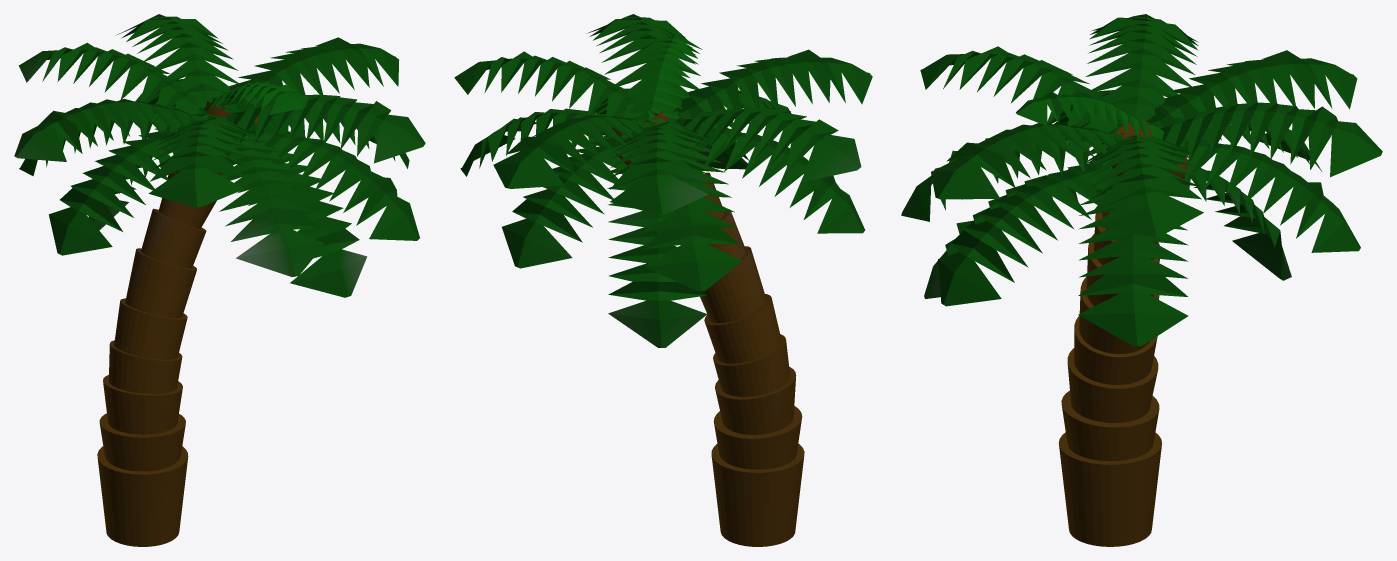
The model's file is Coconut.fbx.
The picture shows the model from 3 angles, left to right: view 1: azimuth 30°, elevation 25°; view 2: azimuth 150°, elevation 25°; view 3: azimuth 270°, elevation 25°; orthographic projection. The views are drawn at different scales.
Parts seen in each view (by area): view 1: Plane.014; view 2: Plane.014; view 3: Plane.014.
Part boxes in pixels (bbox=[...]): Plane.014: bbox=[14, 14, 425, 546]; Plane.014: bbox=[454, 14, 872, 546]; Plane.014: bbox=[901, 14, 1382, 546].
Bounding box in the file's own units: 924 × 981 × 870.
